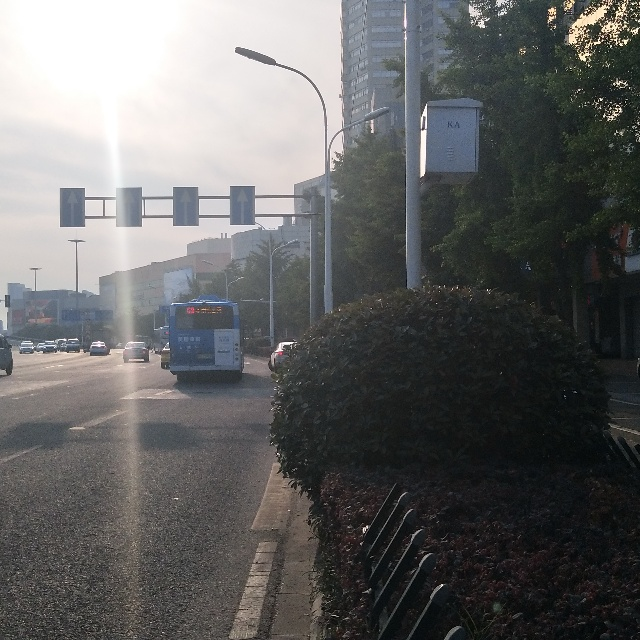straight: (169, 186, 198, 227), (58, 186, 84, 227), (232, 185, 254, 222), (121, 189, 139, 224)
